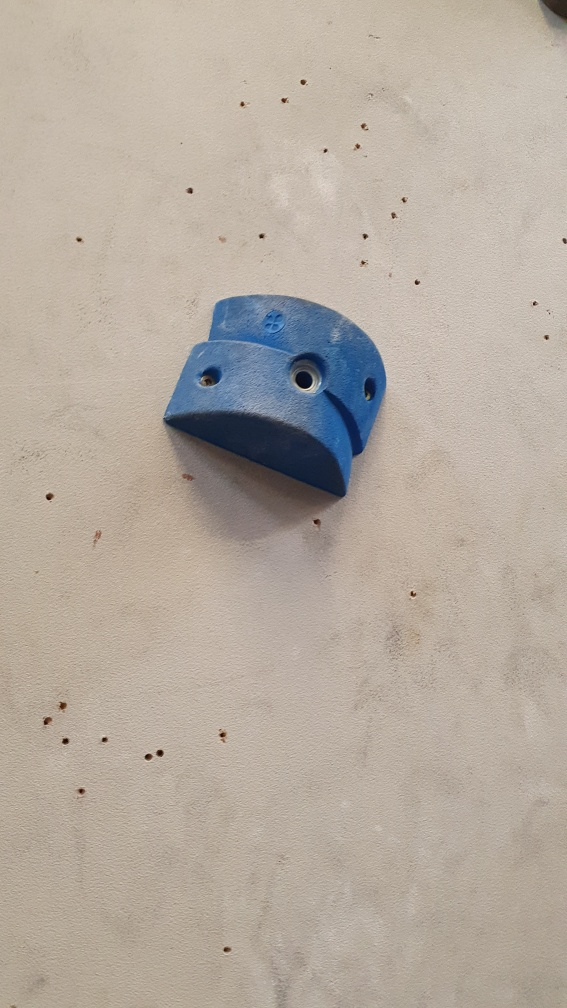Pinch: (158, 274, 396, 497)
